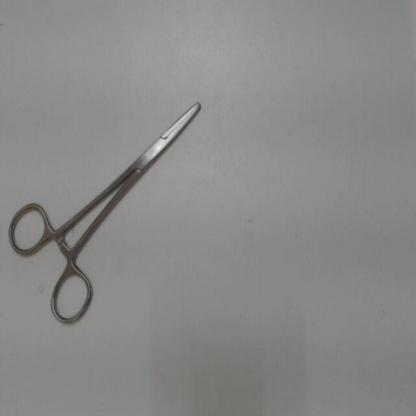Mayo Needle Holder: (2, 87, 218, 333)
